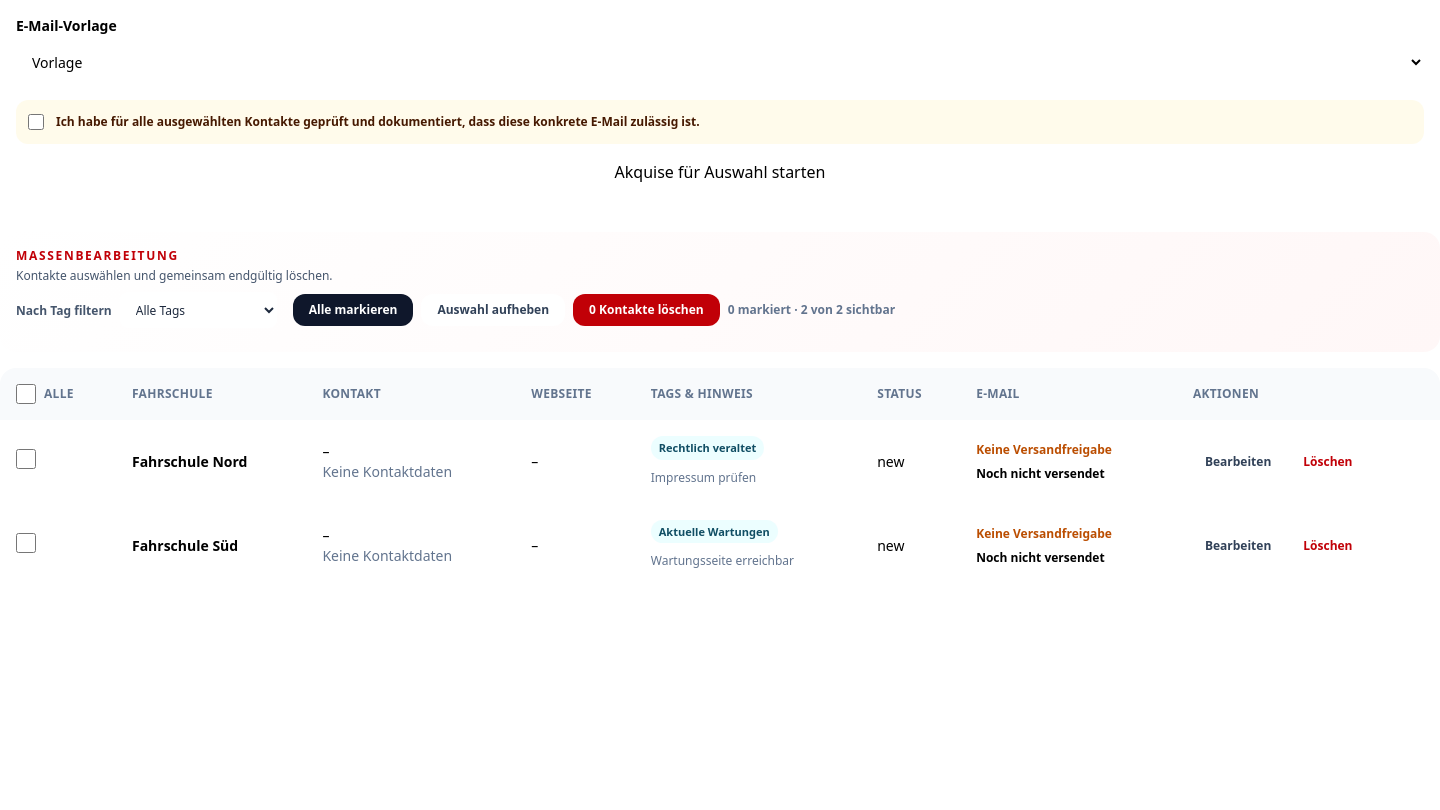
Akquise-Kontaktauswahl › begrenzt die Gesamtauswahl auf den gewählten Tag
Step 1. Select "Rechtlich veraltet" in the dropdown labelled "Nach Tag filtern" → (198,310), box [120, 292, 277, 328]
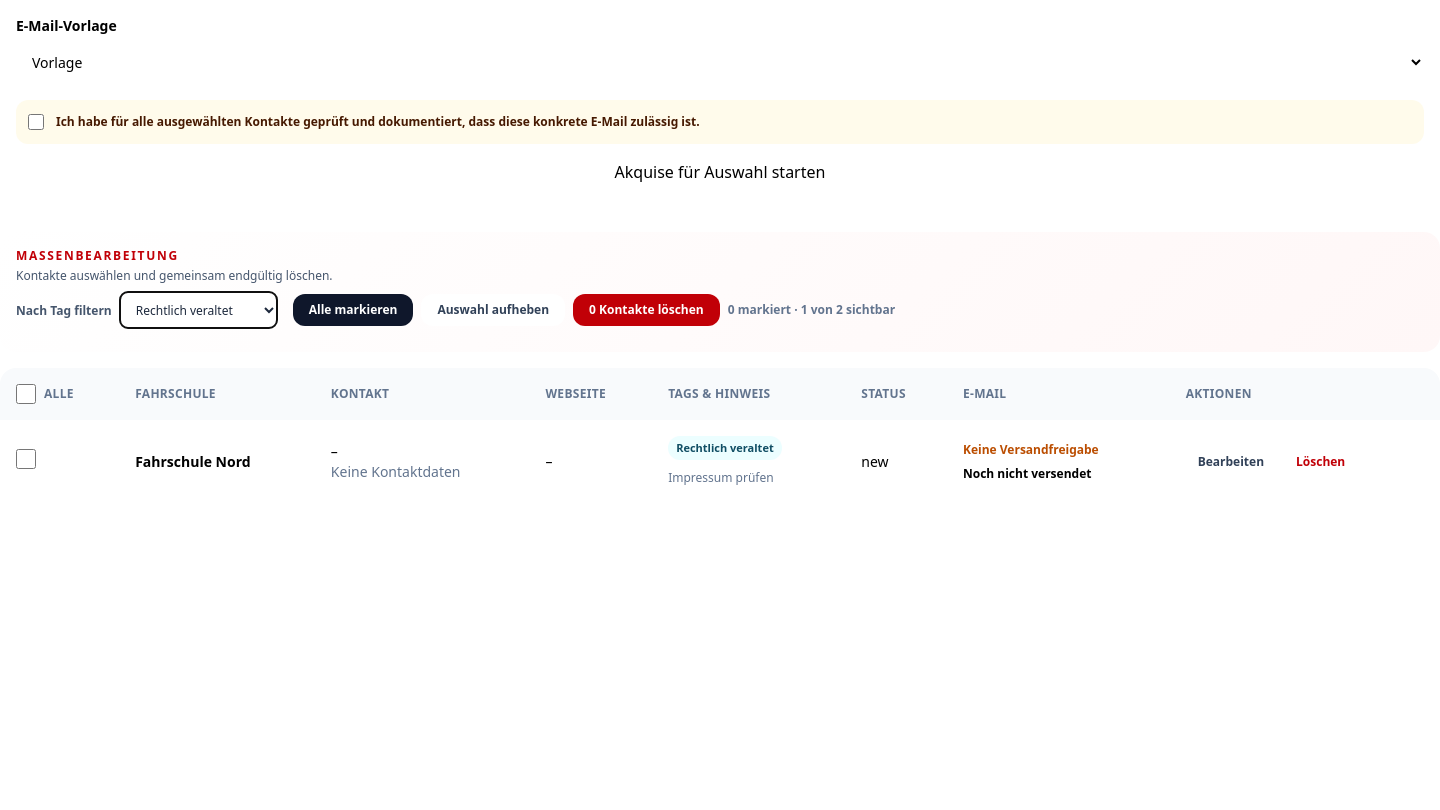
Step 2. Click the checkbox named "Alle sichtbaren Kontakte auswählen" → (26,394), box [16, 384, 36, 404]
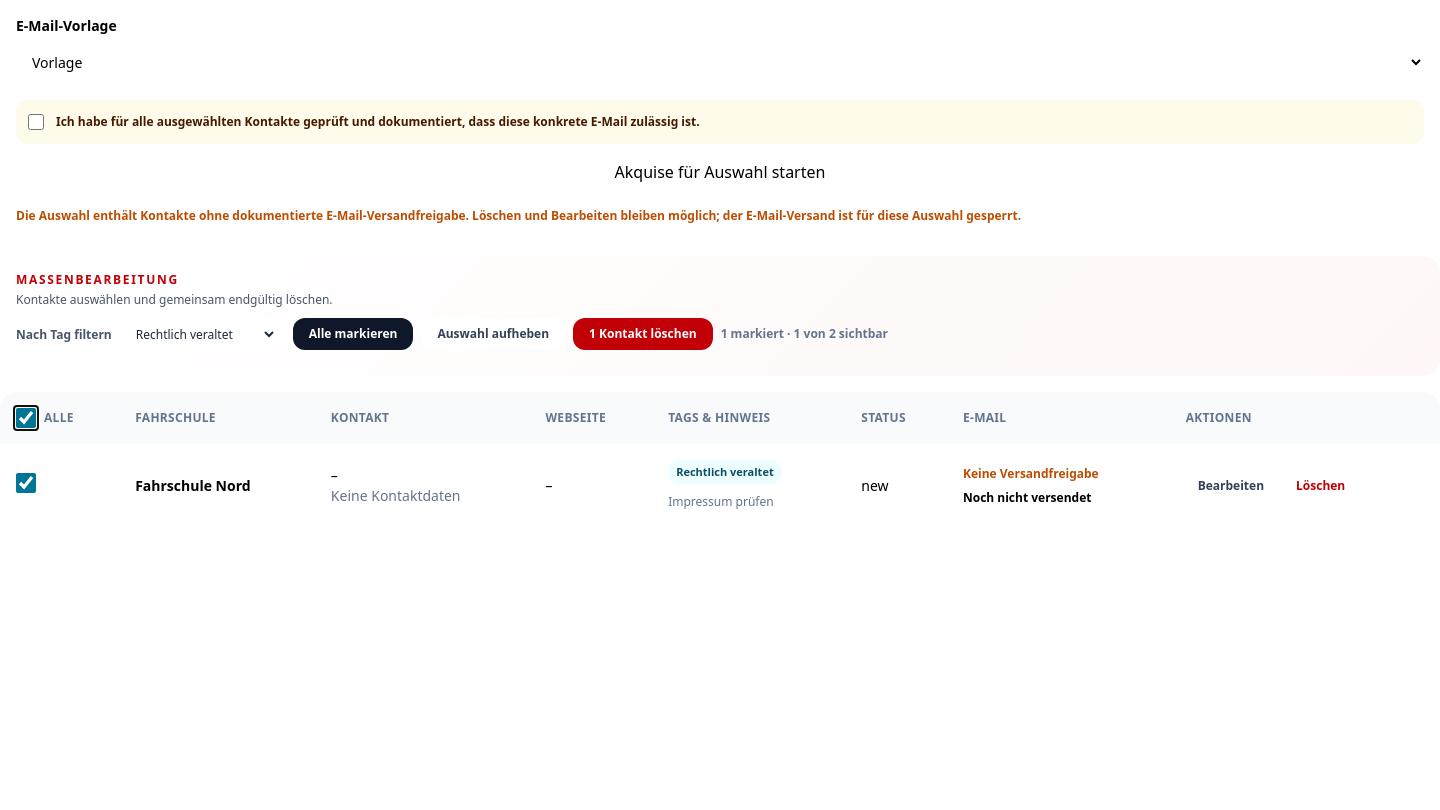
Check: the text "Fahrschule Süd" is not shown
Check: the button "1 Kontakt löschen" is enabled, box [573, 318, 713, 350]
